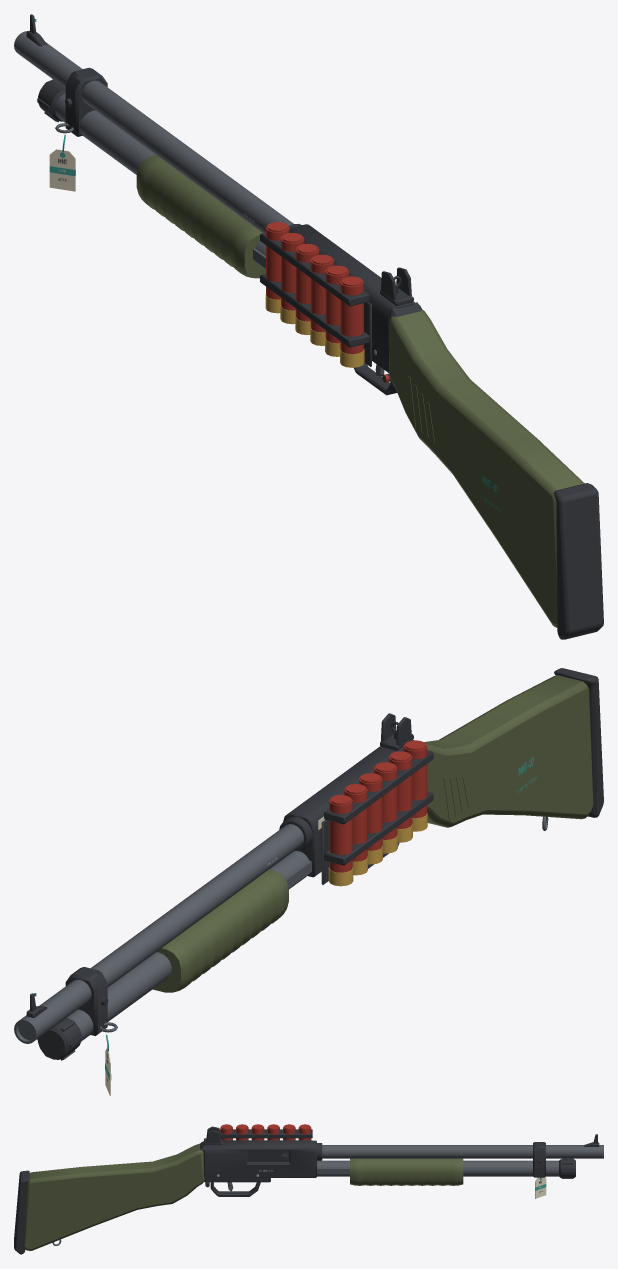
3 renders of one model, top to bottom at view 1: azimuth 30°, elevation 25°; view 2: azimuth 150°, elevation 25°; view 3: azimuth 270°, elevation 25°, orthographic. The views are drawn at different scales.
Parts seen in each view (by area): view 1: body, pump; view 2: body, pump; view 3: body, pump.
Part boxes in pixels (<box>): body: <box>14,14,603,639</box>; pump: <box>136,154,265,278</box>; body: <box>14,668,603,1095</box>; pump: <box>152,861,311,992</box>; body: <box>14,1124,603,1254</box>; pump: <box>317,1158,463,1185</box>.
Size of the model in its own units: 0.0683 by 0.2245 by 0.9867.
